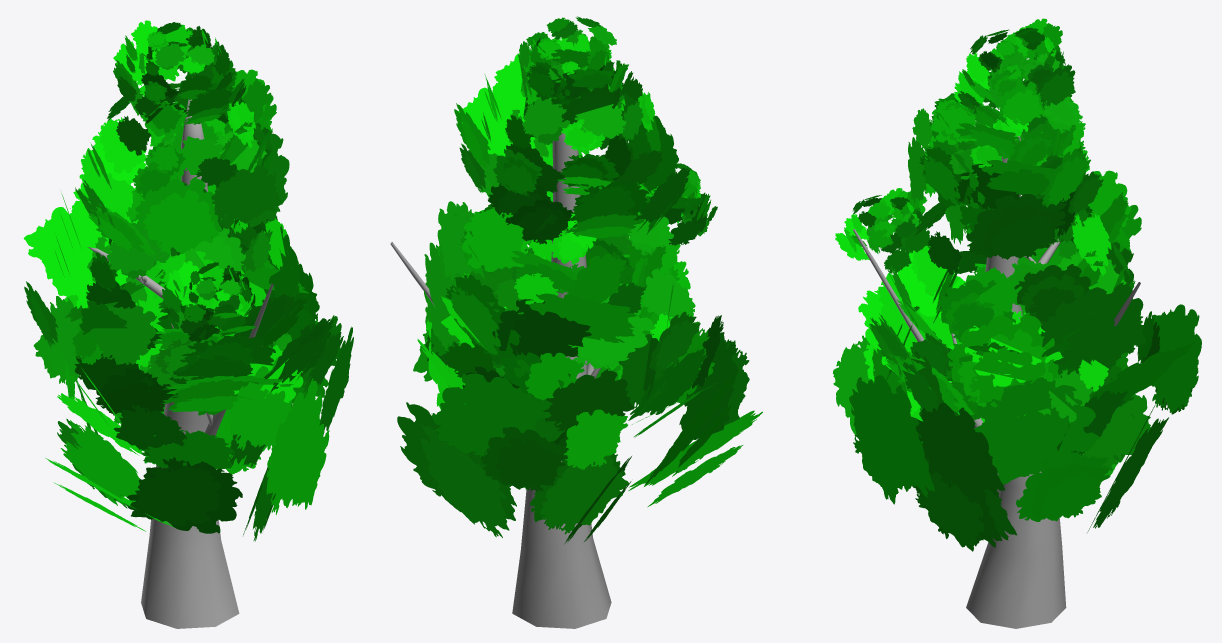
Rendered from Tree2.fbx.
3 renders of one model, left to right at view 1: azimuth 30°, elevation 25°; view 2: azimuth 150°, elevation 25°; view 3: azimuth 270°, elevation 25°, orthographic. The views are drawn at different scales.
Visible parts, largest first — view 1: LeafClump, Tree2; view 2: LeafClump, Tree2; view 3: LeafClump, Tree2.
Boxes of the visible parts, bbox=[...] form: LeafClump: bbox=[23, 20, 353, 541]; Tree2: bbox=[88, 77, 273, 628]; LeafClump: bbox=[397, 16, 762, 544]; Tree2: bbox=[390, 132, 611, 628]; LeafClump: bbox=[833, 18, 1201, 551]; Tree2: bbox=[853, 136, 1140, 628].
Size of the model in its own units: 12.54 by 20.55 by 12.72.
